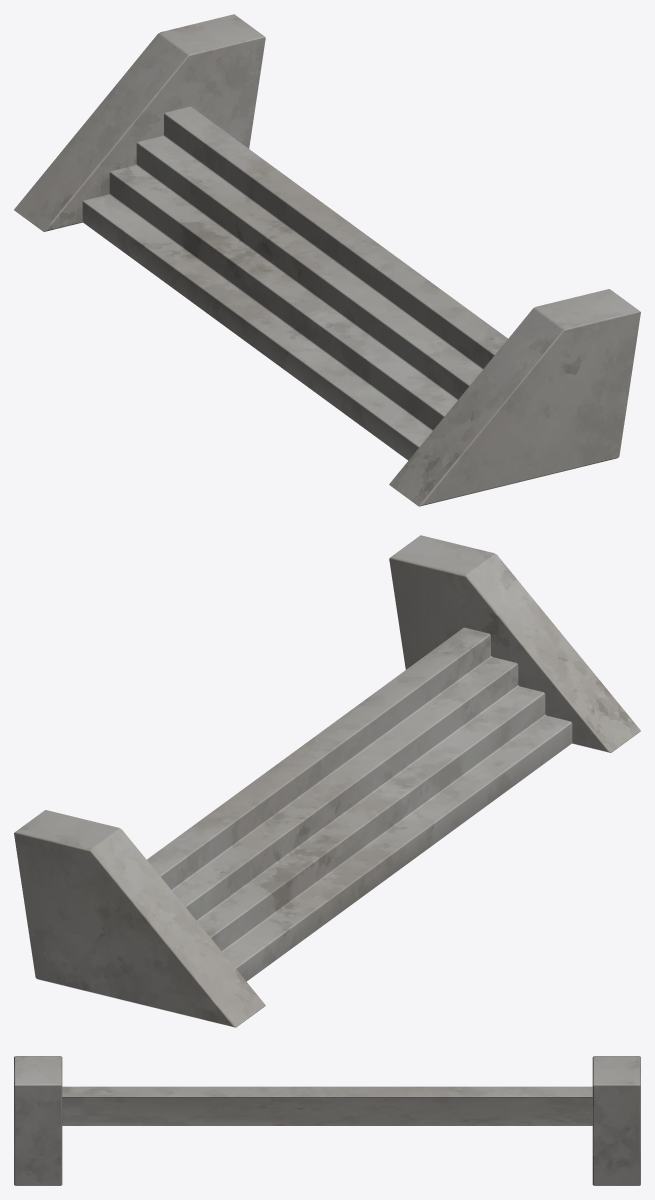
File: SM_Stairs_Little.fbx
The picture shows the model from 3 angles, top to bottom: view 1: azimuth 30°, elevation 25°; view 2: azimuth 150°, elevation 25°; view 3: azimuth 270°, elevation 25°; orthographic projection. The views are drawn at different scales.
Visible parts, largest first — view 1: SM_Stairs_Little_LOD0; view 2: SM_Stairs_Little_LOD0; view 3: SM_Stairs_Little_LOD0.
Boxes of the visible parts, x1,y1,x2,y2 form: SM_Stairs_Little_LOD0: (14,14,640,506); SM_Stairs_Little_LOD0: (14,535,640,1027); SM_Stairs_Little_LOD0: (14,1056,640,1185).
Bounding box in the file's own units: 205 × 650 × 126.
Materials: 1 (1 with a texture image).
